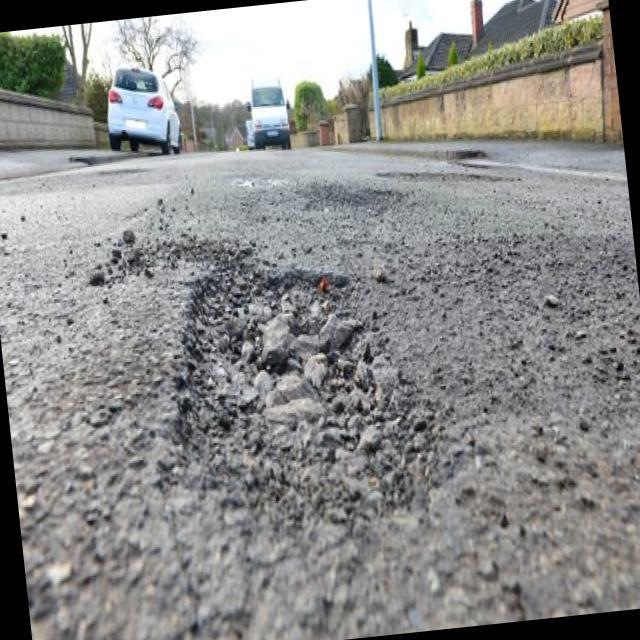Pothole: (118, 178, 458, 566)
